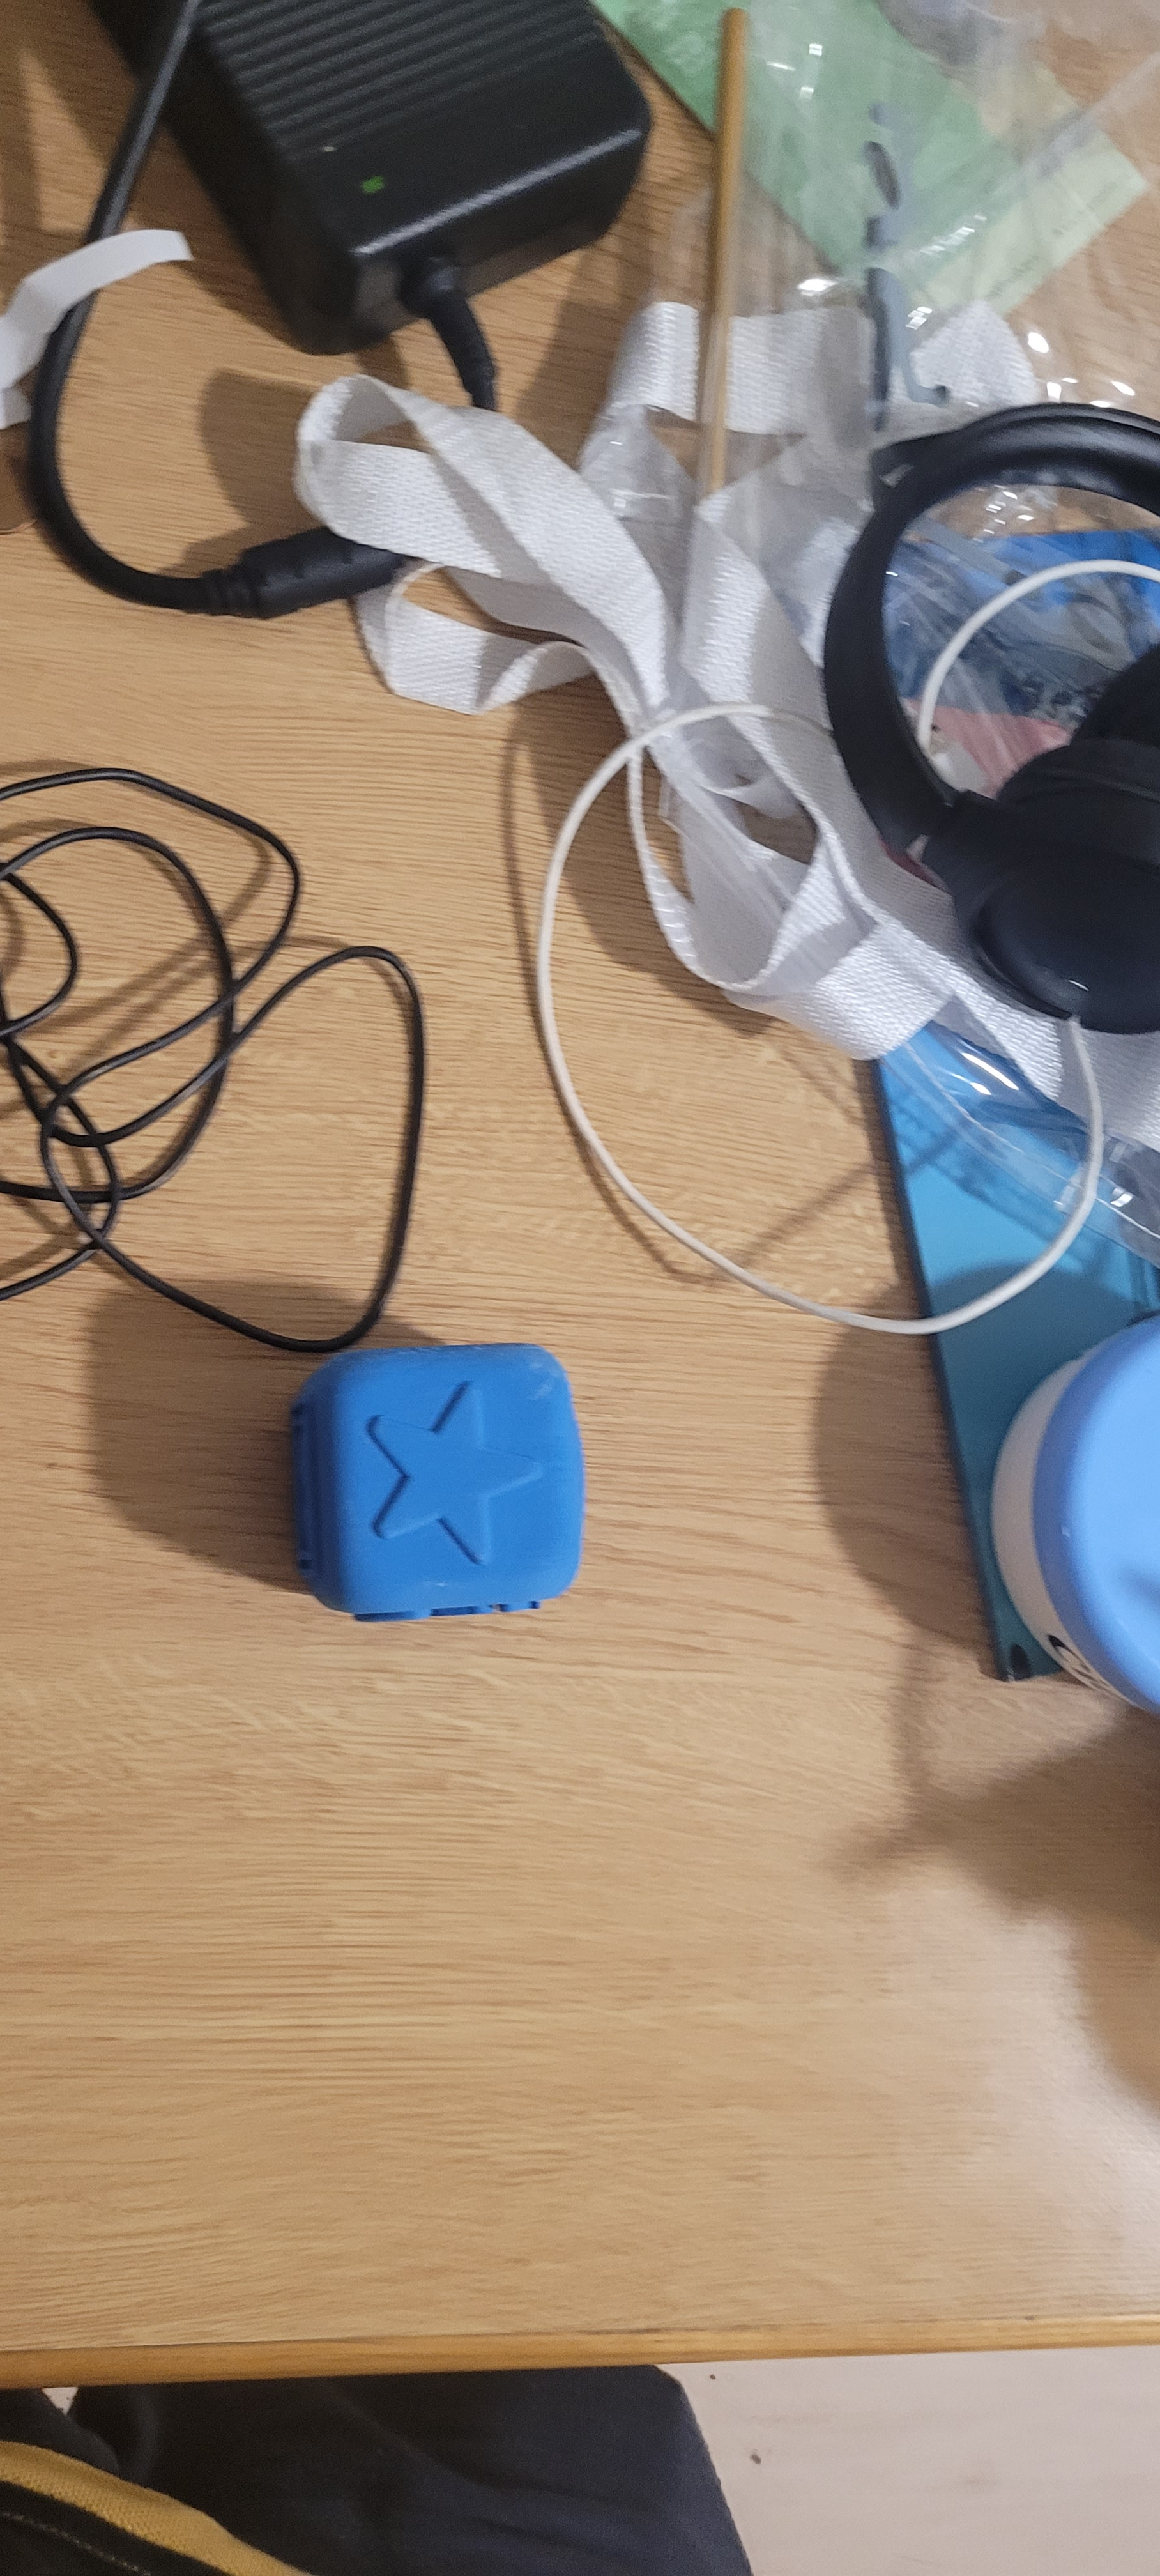Star: (347, 1365, 562, 1589)
